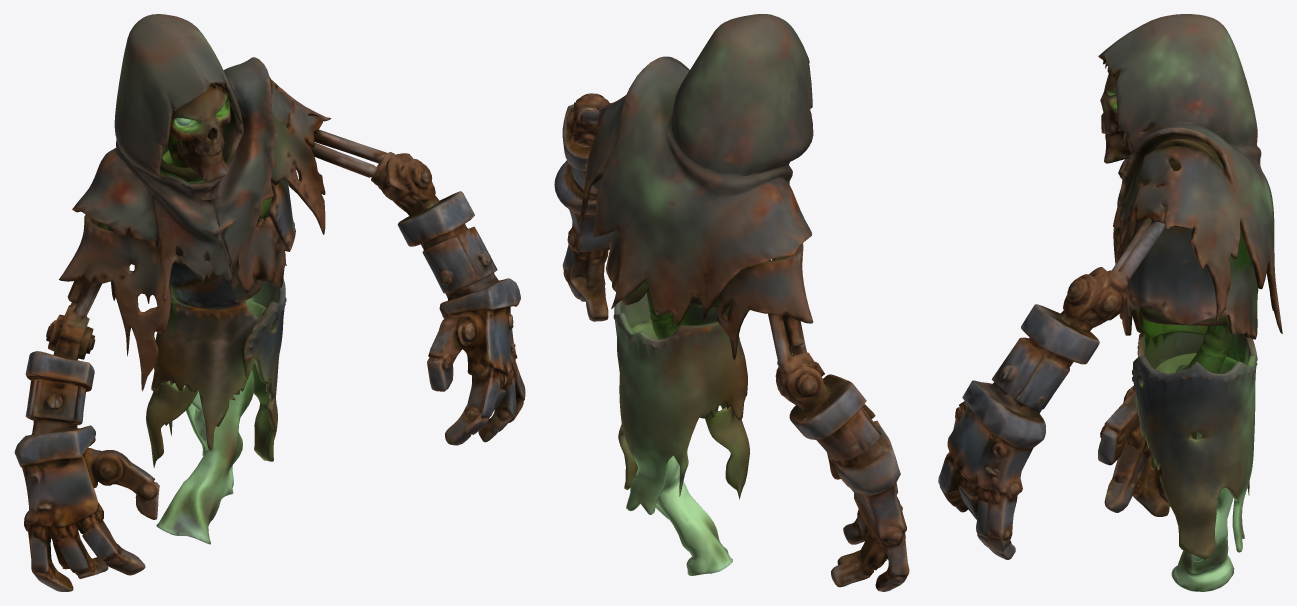
Rendered from undead.glb.
3 renders of one model, left to right at view 1: azimuth 30°, elevation 25°; view 2: azimuth 150°, elevation 25°; view 3: azimuth 270°, elevation 25°, orthographic. The views are drawn at different scales.
Visible parts, largest first — view 1: material; view 2: material; view 3: material.
Part boxes in pixels (x1,y1,x2,y2): material: (14, 14, 525, 591); material: (554, 14, 909, 591); material: (938, 14, 1282, 591).
Bounding box in the file's own units: 0.7943 × 0.9751 × 0.5527.
Materials: 1 (1 with a texture image).
